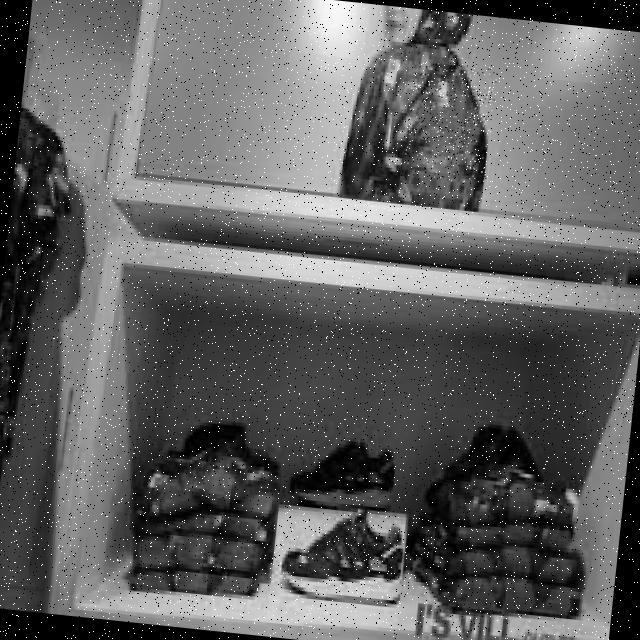Adidas: (402, 58, 498, 185)
